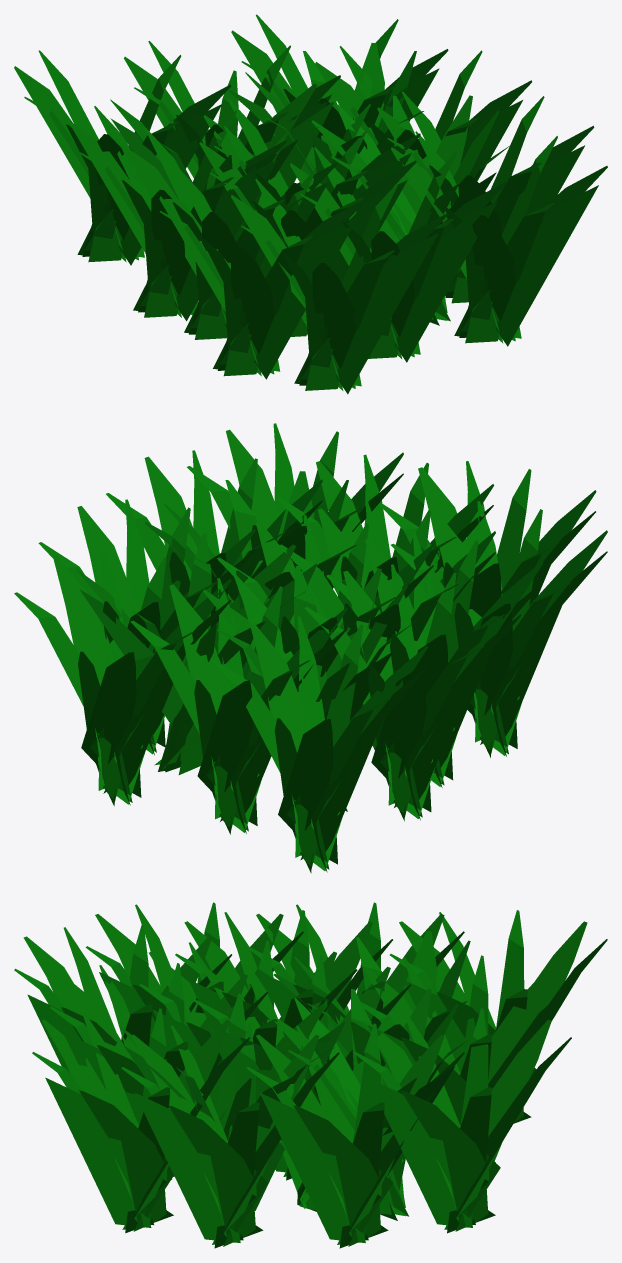
The model's file is Grass.gltf.
3 renders of one model, top to bottom at view 1: azimuth 30°, elevation 25°; view 2: azimuth 150°, elevation 25°; view 3: azimuth 270°, elevation 25°, orthographic. The views are drawn at different scales.
Visible parts, largest first — view 1: Plane; view 2: Plane; view 3: Plane.
Boxes of the visible parts, bbox=[...] form: Plane: bbox=[14, 14, 607, 394]; Plane: bbox=[14, 423, 607, 873]; Plane: bbox=[14, 902, 607, 1248].
Size of the model in its own units: 2.7 by 1.08 by 3.32.
